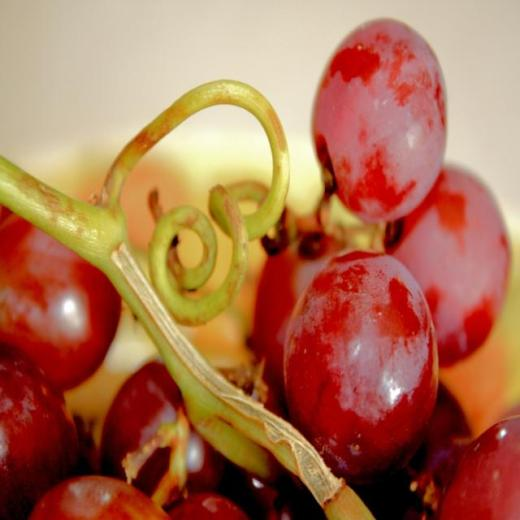Orange: (1, 18, 519, 519)
